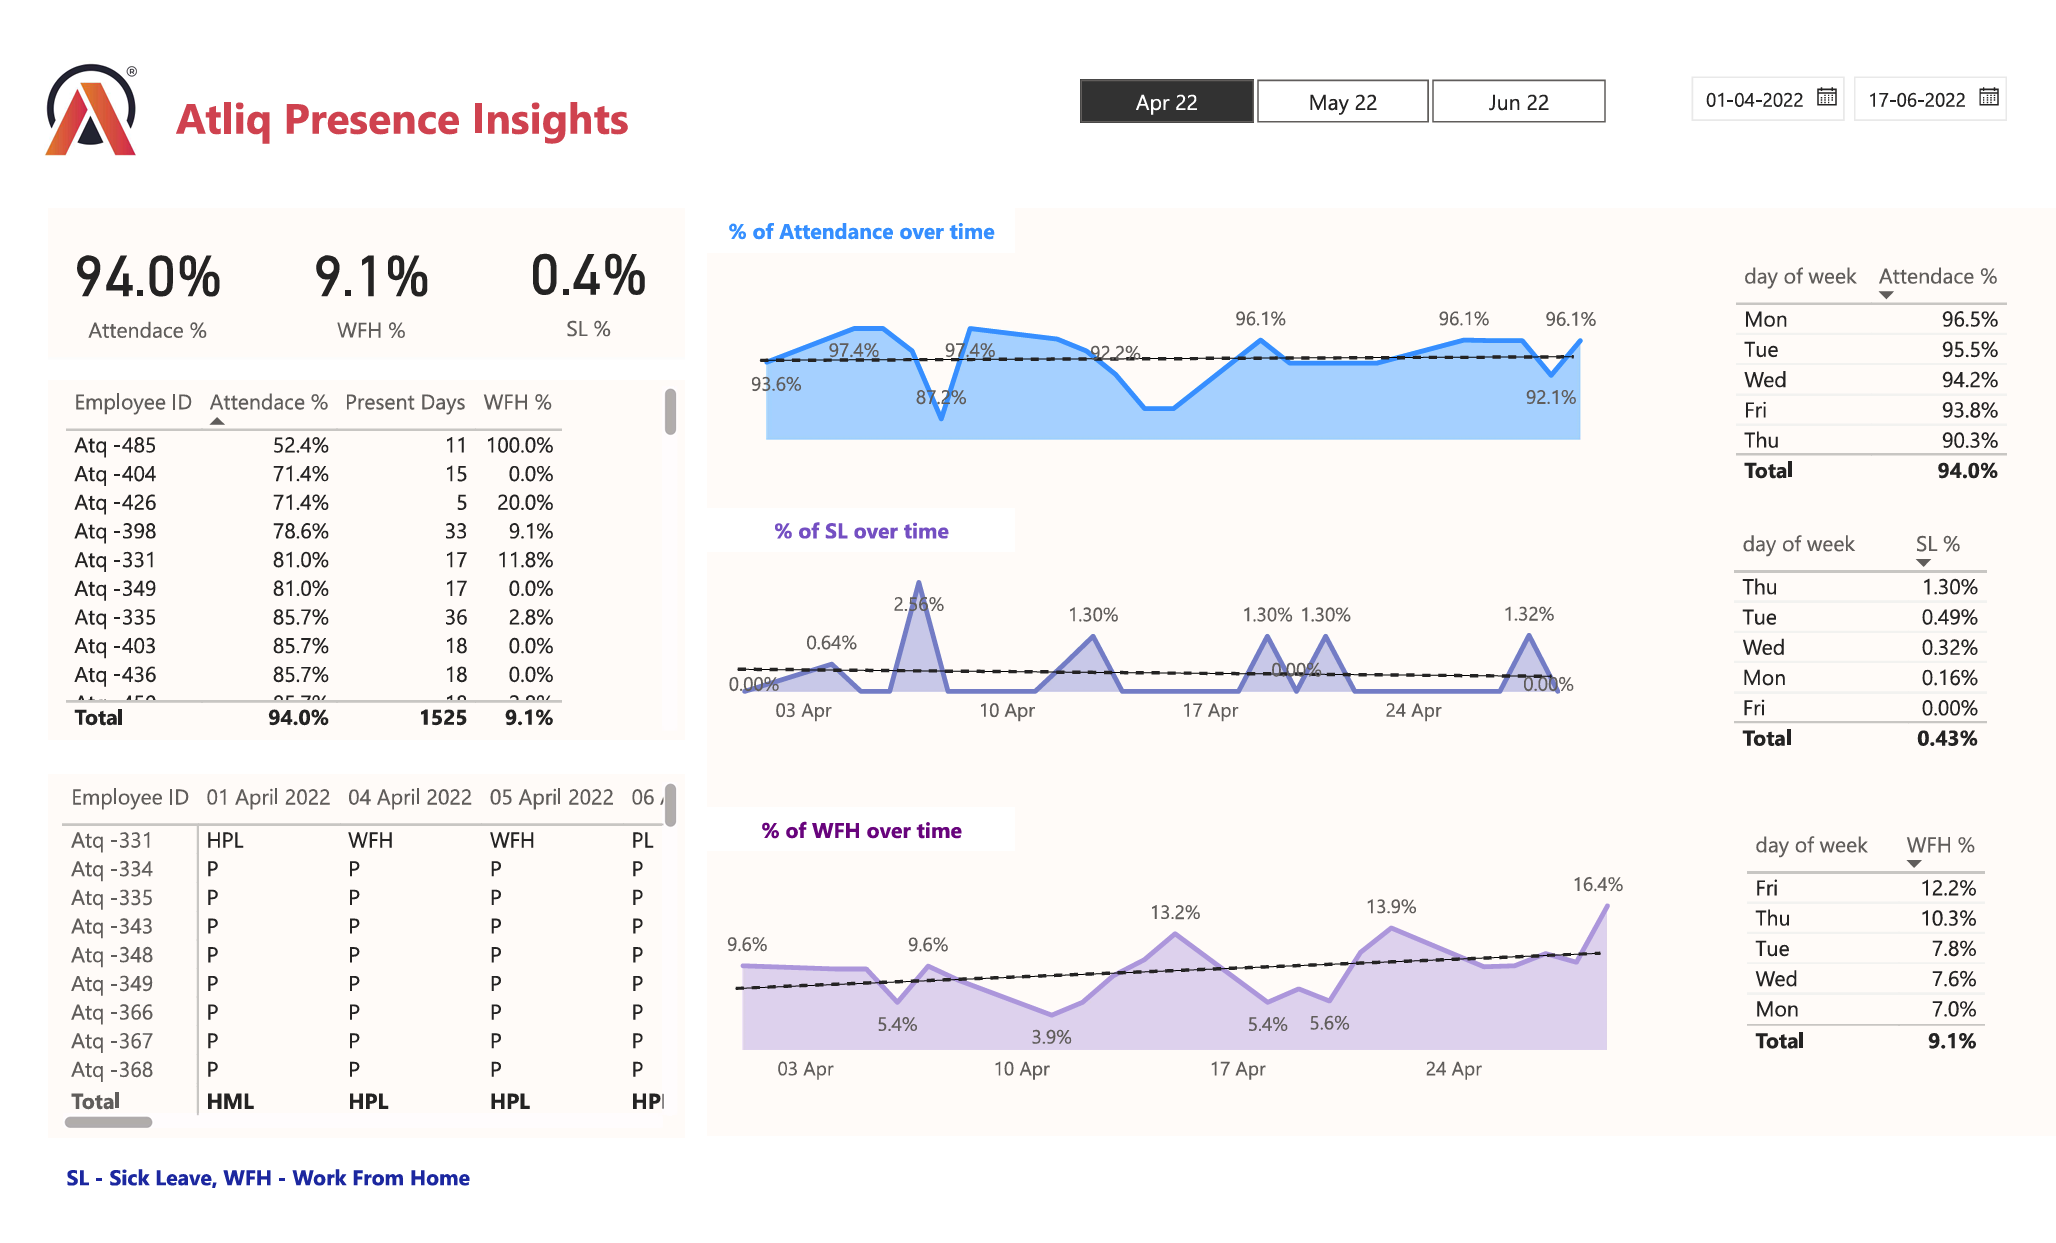

Layout of this report page (visuals, bound fields, positions):
{"tool":"powerbi","page":{"name":"Presence Insights","canvas":[1280,720],"ordinal":0},"visuals":[{"type":"textbox","box":[7.8,205.6,399.9,225.5],"z":0},{"type":"textbox","box":[7.8,453.3,399.8,227.6],"z":1000},{"type":"textbox","box":[422.3,97.9,848.1,582.3],"z":2000},{"type":"textbox","box":[7.8,98,399.9,95.4],"z":3000},{"type":"tableEx","fields":{"Values":["Final Data.Employee ID","Measures (2).Attendace %","Measures (2).Present Days","Measures (2).WFH %"]},"box":[12.6,205.2,394.9,225.7],"z":4000},{"type":"slicer","fields":{"Values":["Final Data.Date"]},"box":[1027.3,5.2,252.7,46.3],"z":5000},{"type":"slicer","fields":{"Values":["Final Data.MMM YY"]},"box":[630.4,10.5,379.5,35.8],"z":6000},{"type":"areaChart","fields":{"Category":["Final Data.MMM YY","Final Data.Date"],"Y":["Measures (2).WFH %"]},"box":[420.7,502.3,589,153.5],"z":7000},{"type":"areaChart","fields":{"Category":["Final Data.WeekNo","Final Data.Date"],"Y":["Measures (2).Attendace %"]},"box":[444.1,144.9,540.4,103.2],"z":8000},{"type":"card","fields":{"Values":["Measures (2).Attendace %"]},"box":[7.8,98,124,96.3],"z":9000},{"type":"card","fields":{"Values":["Measures (2).WFH %"]},"box":[141.4,98,138.8,96.3],"z":10000},{"type":"areaChart","fields":{"Category":["Final Data.MMM YY","Final Data.Date"],"Y":["Measures (2).SL %"]},"box":[422.5,307.1,556,124],"z":11000},{"type":"image","box":[0,0,70,71],"z":12000},{"type":"card","fields":{"Values":["Measures (2).SL %"]},"box":[286.3,97.2,121.4,96.3],"z":13000},{"type":"textbox","box":[70.3,0,320.1,71.1],"z":14000},{"type":"textbox","box":[422.4,98.2,192.5,27.5],"z":15000},{"type":"textbox","box":[422.5,286.3,192.6,26.9],"z":16000},{"type":"textbox","box":[422.1,473.7,192.6,27.2],"z":17000},{"type":"pivotTable","fields":{"Rows":["Final Data.Employee ID"],"Columns":["Final Data.Date"],"Values":["Min(Final Data.Value)"]},"box":[11.7,453.3,395.9,227.6],"z":18000},{"type":"textbox","box":[13.6,691.6,289.8,28.2],"z":19000},{"type":"tableEx","fields":{"Values":["Final Data.day of week","Measures (2).Attendace %"]},"box":[1061.6,125.9,209.3,160.8],"z":20000},{"type":"tableEx","fields":{"Values":["Final Data.day of week","Measures (2).SL %"]},"box":[1060.9,294.1,191.7,167.4],"z":21000},{"type":"tableEx","fields":{"Values":["Final Data.day of week","Measures (2).WFH %"]},"box":[1068.7,483.2,170,167.4],"z":22000}]}

Visuals, with their boxes on the page's 1280x720 design canvas (x1, y1, x2, y2). These are canvas units, not pixel positions in the 2056x1243 screenshot, which may show the page scaled, cropped or inside an application window:
textbox: (x1=8, y1=206, x2=408, y2=431)
textbox: (x1=8, y1=453, x2=408, y2=681)
textbox: (x1=422, y1=98, x2=1270, y2=680)
textbox: (x1=8, y1=98, x2=408, y2=193)
tableEx - Final Data.Employee ID x Measures (2).Attendace %: (x1=13, y1=205, x2=408, y2=431)
slicer - Final Data.Date: (x1=1027, y1=5, x2=1280, y2=52)
slicer - Final Data.MMM YY: (x1=630, y1=10, x2=1010, y2=46)
areaChart - Final Data.MMM YY x Final Data.Date: (x1=421, y1=502, x2=1010, y2=656)
areaChart - Final Data.WeekNo x Final Data.Date: (x1=444, y1=145, x2=984, y2=248)
card - Measures (2).Attendace %: (x1=8, y1=98, x2=132, y2=194)
card - Measures (2).WFH %: (x1=141, y1=98, x2=280, y2=194)
areaChart - Final Data.MMM YY x Final Data.Date: (x1=422, y1=307, x2=978, y2=431)
image: (x1=0, y1=0, x2=70, y2=71)
card - Measures (2).SL %: (x1=286, y1=97, x2=408, y2=194)
textbox: (x1=70, y1=0, x2=390, y2=71)
textbox: (x1=422, y1=98, x2=615, y2=126)
textbox: (x1=422, y1=286, x2=615, y2=313)
textbox: (x1=422, y1=474, x2=615, y2=501)
pivotTable - Final Data.Employee ID x Final Data.Date: (x1=12, y1=453, x2=408, y2=681)
textbox: (x1=14, y1=692, x2=303, y2=720)
tableEx - Final Data.day of week x Measures (2).Attendace %: (x1=1062, y1=126, x2=1271, y2=287)
tableEx - Final Data.day of week x Measures (2).SL %: (x1=1061, y1=294, x2=1253, y2=462)
tableEx - Final Data.day of week x Measures (2).WFH %: (x1=1069, y1=483, x2=1239, y2=651)
